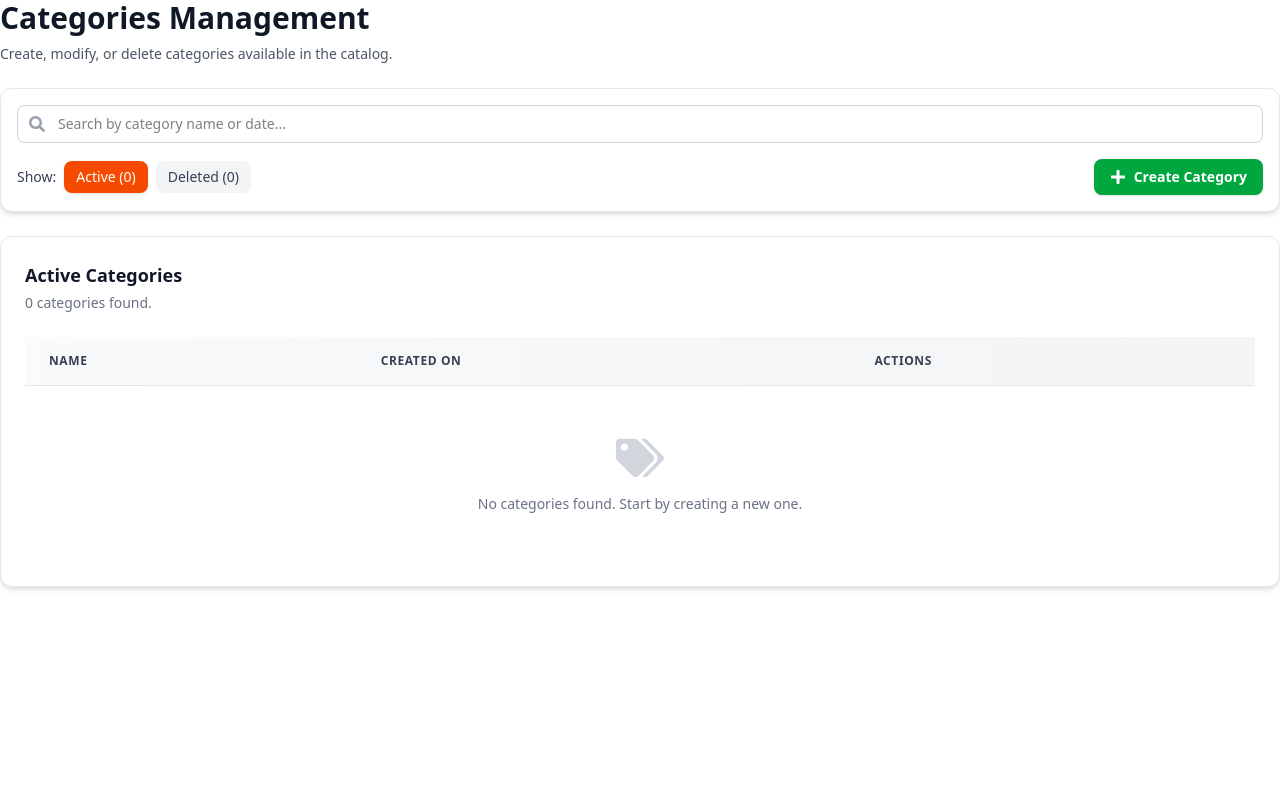
Scenario: AdminCategories › opens create modal when create button is clicked
Click the button "Create Category" at (1178, 177), box [1094,159,1263,195]
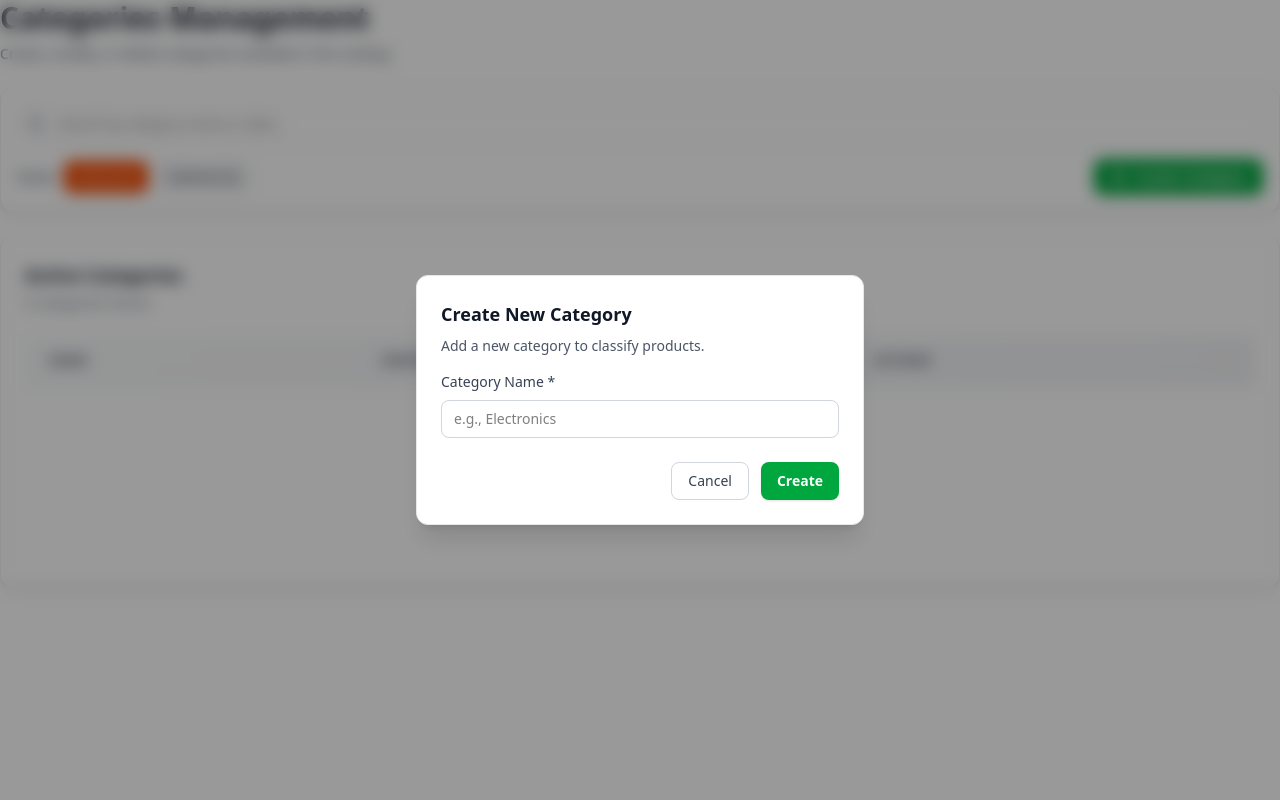
Now the heading "Create New Category" is shown, box [441,302,632,326]
